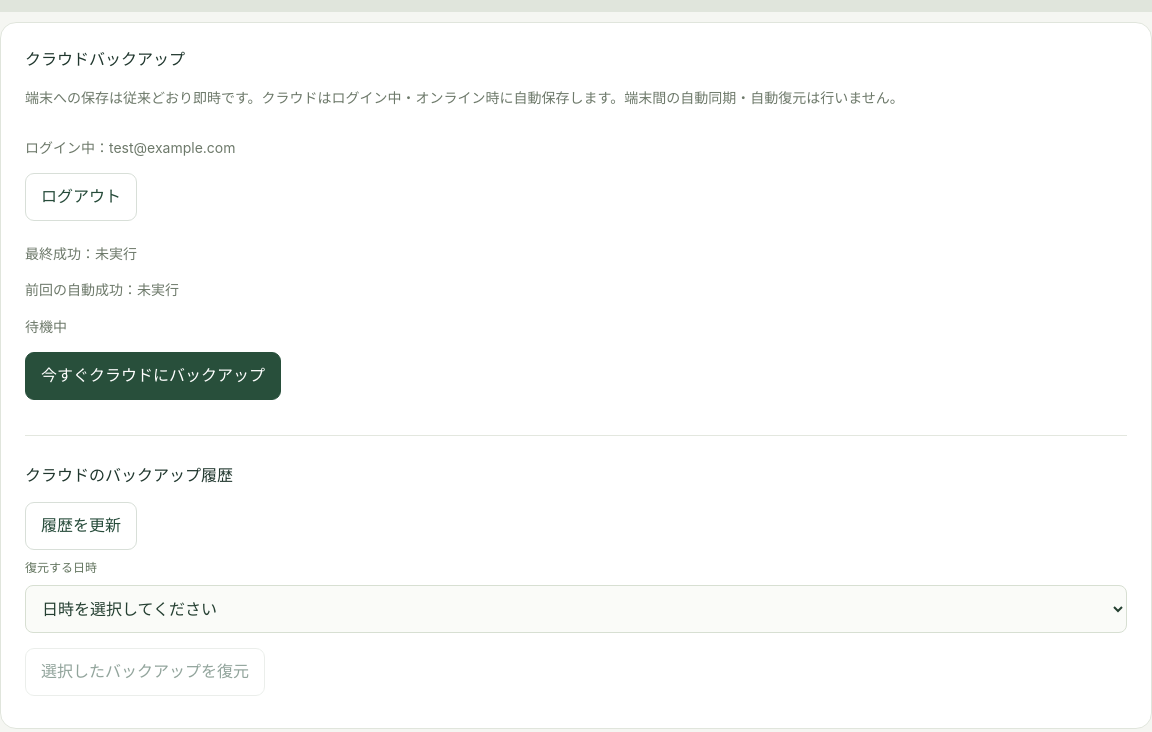
履歴は明示操作・検証・確認後だけ復元し、復元前の記録を退避する
Select "2026/11/21 0:00:00 · row" in the dropdown labelled "復元する日時" at (576, 609), box [25,585,1127,633]
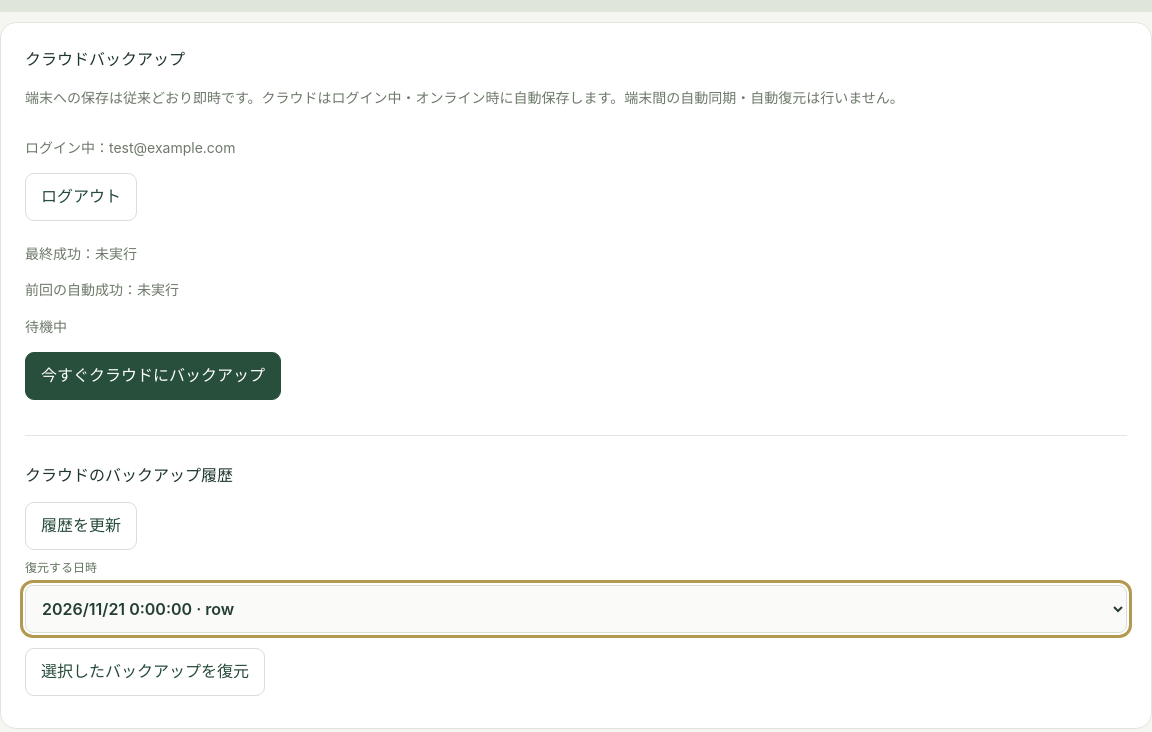
Click the button "選択したバックアップを復元" at (145, 672), box [25,648,265,696]
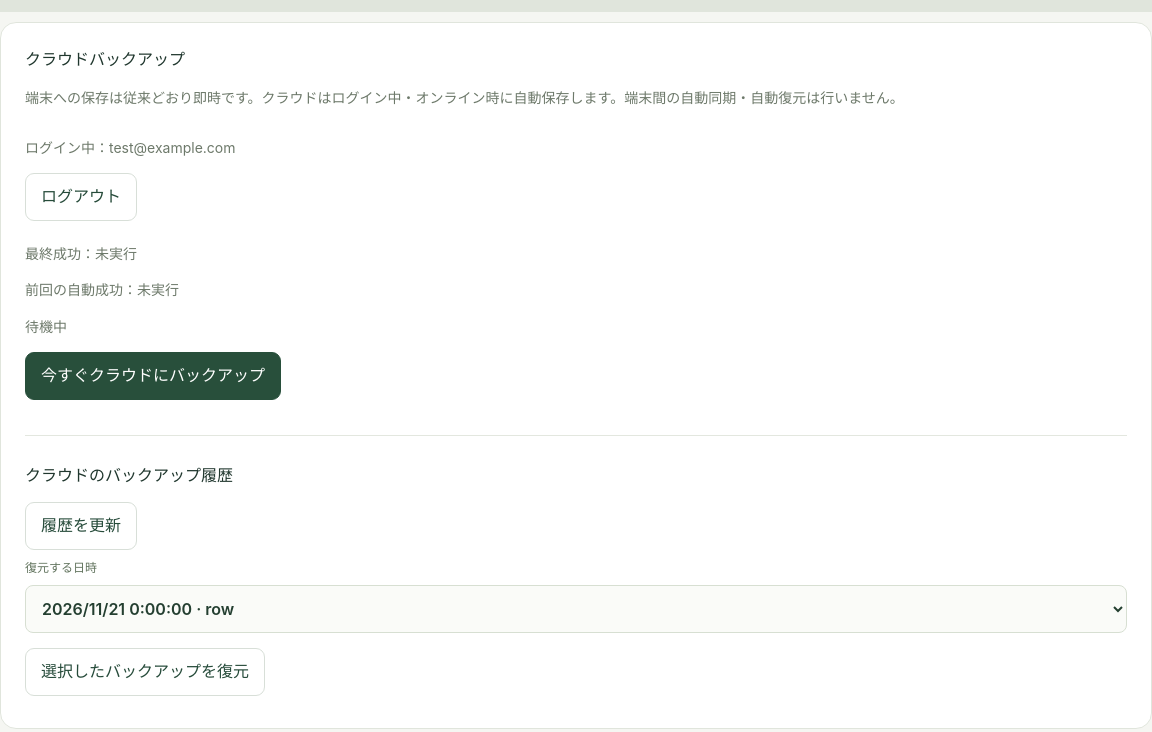
Click the button "選択したバックアップを復元" at (145, 672), box [25,648,265,696]
(page scrolled)
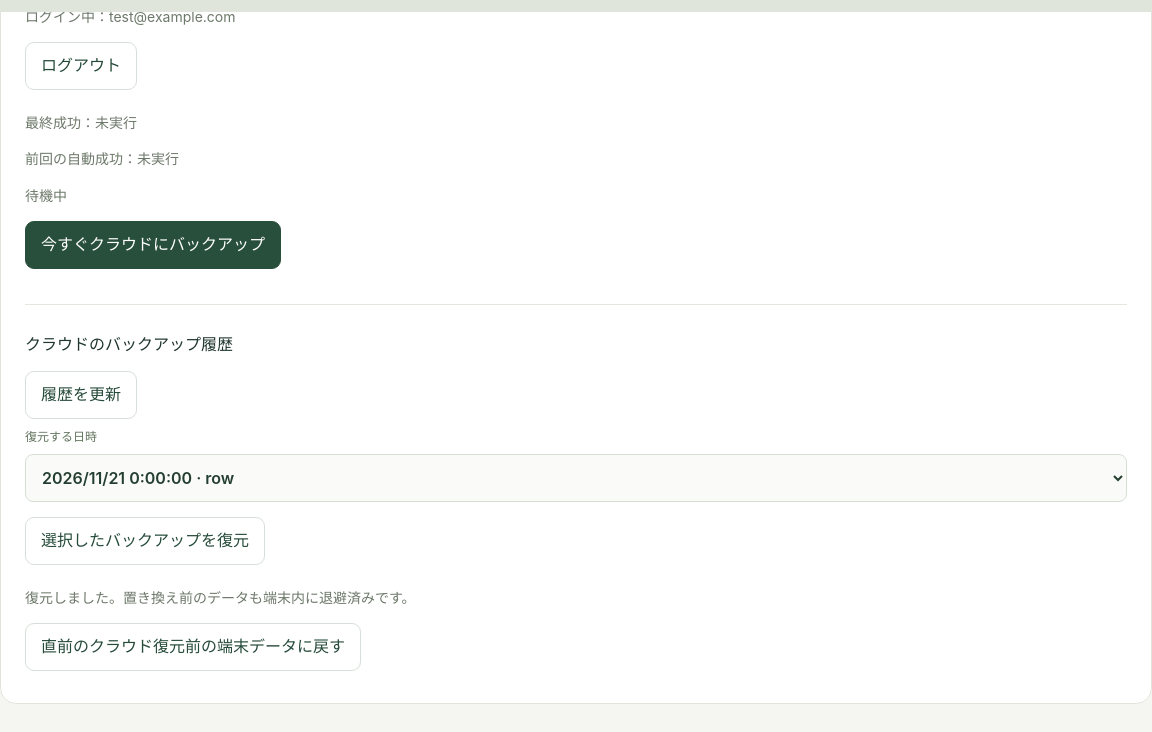
expect the button "直前のクラウド復元前の端末データに戻す" is shown: met, box [25,623,361,671]
